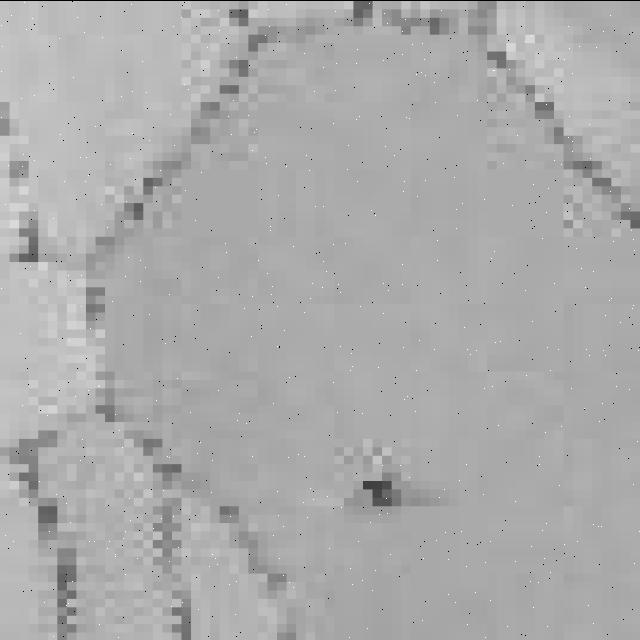good_void: (331, 452, 429, 528)
